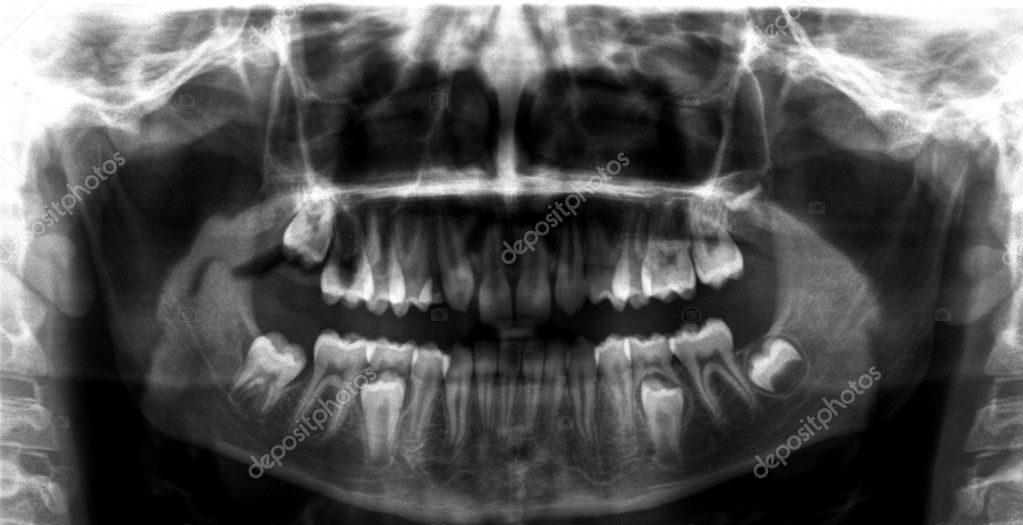canine: (428, 201, 479, 318), (550, 201, 589, 320), (437, 337, 475, 456), (565, 336, 601, 455)
incisor: (511, 214, 557, 324), (470, 214, 515, 325), (468, 327, 499, 453), (494, 324, 526, 444), (538, 332, 571, 445), (518, 326, 550, 440)
molar: (665, 313, 764, 431), (286, 319, 370, 456), (222, 324, 311, 425), (680, 179, 753, 293), (317, 193, 381, 315), (641, 188, 702, 307), (735, 328, 820, 406), (276, 175, 340, 275), (632, 376, 694, 473), (354, 367, 411, 471), (607, 193, 652, 314)
premolar: (585, 194, 637, 322), (588, 326, 640, 449), (404, 337, 452, 467), (387, 202, 436, 321)
